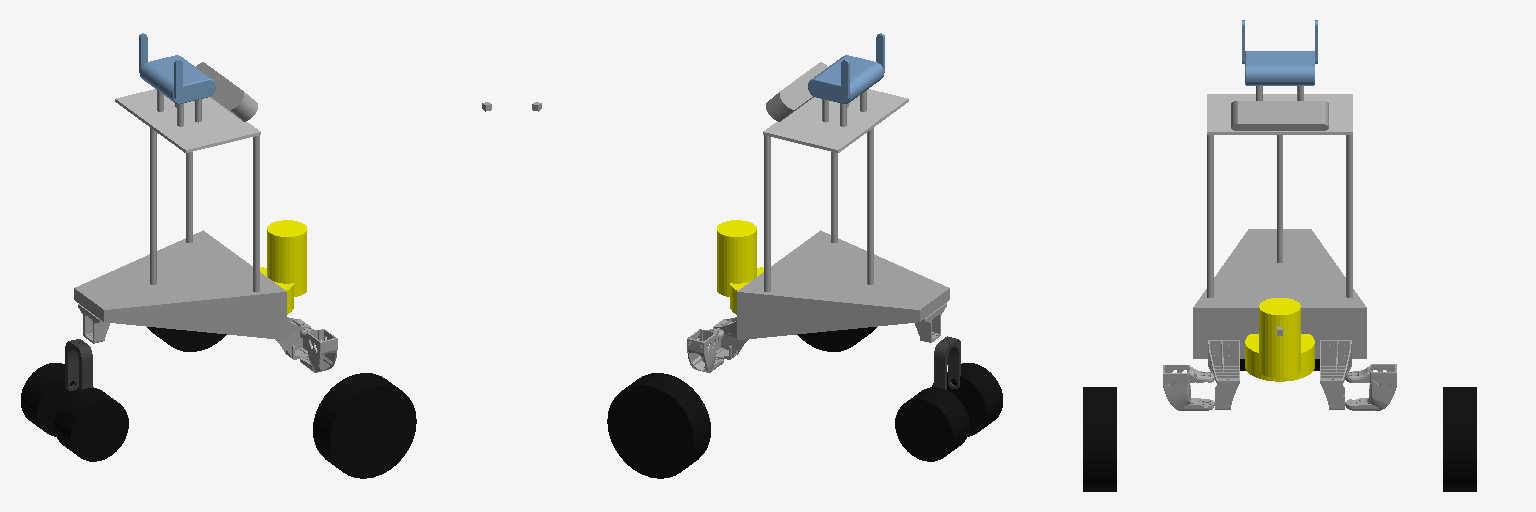
robot.urdf — nano_atrv:
<?xml version="1.0"?>
<robot name="nano_atrv">

    <link name="base_link">
        <visual>
            <origin xyz="-0.15 0 0" rpy="0 0 -1.5708" />
            <geometry>
                <mesh filename="package://nano_atrv_description/meshes/vehicle/mainbody.stl" scale="0.001 0.001 0.001"/>
            </geometry>
            <material name="silver">
                <color rgba="0.7 0.7 0.7 1.0"/>
            </material>
        </visual>

		<visual>
            <origin xyz="-0.045 0.65 -0.05" rpy="1.5708 0 1.5708" />
            <geometry>
                <mesh filename="package://nano_atrv_description/meshes/vehicle/servomount_rear.stl" scale="0.001 0.001 0.001"/>
            </geometry>
            <material name="red">
                <color rgba="0.7 0.7 0.7 1.0"/>
            </material>
        </visual>

		<visual>
            <origin xyz="0.945 0.17 -0.145" rpy="-1.5708 0 0" />
            <geometry>
                <mesh filename="package://nano_atrv_description/meshes/vehicle/servomount_front_l.stl" scale="0.001 0.001 0.001"/>
            </geometry>
            <material name="red">
                <color rgba="0.7 0.7 0.7 1.0"/>
            </material>
        </visual>

		<visual>
            <origin xyz="0.945 -0.17 -0.145" rpy="1.5708 0 0" />
            <geometry>
                <mesh filename="package://nano_atrv_description/meshes/vehicle/servomount_front_r.stl" scale="0.001 0.001 0.001"/>
            </geometry>
            <material name="red">
                <color rgba="0.7 0.7 0.7 1.0"/>
            </material>
        </visual>


        
        <!-- RODS -->
        <visual>
            <origin xyz="-0.04 0 0.21" rpy="0 0 0" />
            <geometry>
                <cylinder radius="0.005" length="0.26" />
            </geometry>
            <material name="silver">
                <color rgba="0.7 0.7 0.7 1.0"/>
            </material>
        </visual>
        <visual>
            <origin xyz="0.08 0.1 0.21" rpy="0 0 0" />
            <geometry>
                <cylinder radius="0.005" length="0.26" />
            </geometry>
            <material name="silver">
                <color rgba="0.7 0.7 0.7 1.0"/>
            </material>
        </visual>

        <visual>
            <origin xyz="0.08 -0.1 0.21" rpy="0 0 0" />
            <geometry>
                <cylinder radius="0.005" length="0.26" />
            </geometry>
            <material name="silver">
                <color rgba="0.7 0.7 0.7 1.0"/>
            </material>
        </visual>

        <!-- Motorji front right -->
        <visual>
            <origin xyz="0.164 0.1 -0.03" rpy="0 0 1.5708" />
            <geometry>
                <mesh filename="package://nano_atrv_description/meshes/SO101_arm/sts3215_03a_v1.stl" />
            </geometry>
            <material name="black">
                <color rgba="0.1 0.1 0.1 1.0"/>
            </material>
        </visual>

        <visual>
            <origin xyz="0.164 -0.1 -0.03" rpy="0 0 -1.5708" />
            <geometry>
                <mesh filename="package://nano_atrv_description/meshes/SO101_arm/sts3215_03a_v1.stl" />
            </geometry>
            <material name="black">
                <color rgba="0.1 0.1 0.1 1.0"/>
            </material>
        </visual>

        <!-- Motor back -->
        <visual>
            <origin xyz="-0.16 -0.003 0.035" rpy="0 0 3.14159265" />
            <geometry>
                <mesh filename="package://nano_atrv_description/meshes/SO101_arm/sts3215_03a_v1.stl" />
            </geometry>
            <material name="black">
                <color rgba="0.1 0.1 0.1 1.0"/>
            </material>
        </visual>

        <visual>
            <origin xyz="0.02 0 0.34" rpy="0 0 0" />
            <geometry>
            <box size="0.13 0.21 0.005" />
            </geometry>
            <material name="light_gray">
            <color rgba="0.8 0.8 0.8 1.0" />
            </material>
        </visual>

        <!-- Router -->
        <visual>
            <origin xyz="-0.01 0.03 0.37" rpy="0 0 0" />
            <geometry>
                <cylinder radius="0.005" length="0.05" />
            </geometry>
            <material name="silver">
                <color rgba="0.7 0.7 0.7 1.0"/>
            </material>
        </visual>

        <visual>
            <origin xyz="-0.01 -0.03 0.37" rpy="0 0 0" />
            <geometry>
                <cylinder radius="0.005" length="0.05" />
            </geometry>
            <material name="silver">
                <color rgba="0.7 0.7 0.7 1.0"/>
            </material>
        </visual>

        <visual>
            <origin xyz="0.02 0.03 0.37" rpy="0 0 0" />
            <geometry>
                <cylinder radius="0.005" length="0.05" />
            </geometry>
            <material name="silver">
                <color rgba="0.7 0.7 0.7 1.0"/>
            </material>
        </visual>

        <visual>
            <origin xyz="0.02 -0.03 0.37" rpy="0 0 0" />
            <geometry>
                <cylinder radius="0.005" length="0.05" />
            </geometry>
            <material name="silver">
                <color rgba="0.7 0.7 0.7 1.0"/>
            </material>
        </visual>


        <visual>
            <origin xyz="0.04 -0.05 0.39" rpy="0 0 1.5708" />
            <geometry>
                <mesh filename="package://nano_atrv_description/meshes/vehicle/router.stl" scale="0.001 0.001 0.001" />
            </geometry>
            <material name="lightblue">
                <color rgba="0.5 0.65 0.8 1.0"/>
            </material>
        </visual>
    </link>

    <link name="base_link_arm"/>
    <link name="base_footprint"/>
    <link name="laser"/>
    <link name="camera_link">
        <visual>
            <origin xyz="-0.075 -0.11 0.04" rpy="1.5708 0 1.5708" />
            <geometry>
                <mesh filename="package://nano_atrv_description/meshes/vehicle/camera.stl" scale="0.001 0.001 0.001" />
            </geometry>
            <material name="red"/>
        </visual>
    </link>

    <link name="left_wheel">
        <visual>
            <origin xyz="0 0 0" rpy="0 1.5708 0" />
            <geometry>
                <cylinder radius="0.075" length="0.05" />
            </geometry>
            <material name="black">
                <color rgba="0.1 0.1 0.1 1.0"/>
            </material>
        </visual>
    </link>

    <link name="right_wheel">
        <visual>
            <origin xyz="0 0 0" rpy="0 1.5708 0" />
            <geometry>
                <cylinder radius="0.075" length="0.05" />
            </geometry>
            <material name="black">
                <color rgba="0.1 0.1 0.1 1.0"/>
            </material>
        </visual>
    </link>

    <link name="rear_wheel">
        <visual>
            <origin xyz="-0.05 0 0" rpy="0 1.5708 0" />
            <geometry>
                <cylinder radius="0.05" length="0.05" />
            </geometry>
            <material name="black">
                <color rgba="0.1 0.1 0.1 1.0"/>
            </material>
        </visual>

        <visual>
            <origin xyz="0.05 0 0.0" rpy="0 1.5708 0" />
            <geometry>
                <cylinder radius="0.05" length="0.05" />
            </geometry>
            <material name="black">
                <color rgba="0.1 0.1 0.1 1.0"/>
            </material>
        </visual>
    </link>

    <link name="right_wheel_link"/>
    <link name="left_wheel_link"/>
    
    <link name="rear_wheel_link">
        <visual>
            <origin xyz="0.0 0.2 0.78" rpy="0 -1.5708 0" />
            <geometry>
                <mesh filename="package://nano_atrv_description/meshes/vehicle/wheel_rear_yoke.stl" scale="0.001 0.001 0.001"/>
            </geometry>
            <material name="dark_grey">
                <color rgba="0.3 0.3 0.3 1.0"/>
            </material>
        </visual>
    </link>

    <link name="left_steer_link"/>
    <link name="right_steer_link"/>
    <link name="rear_steer_link"/>

    <link name="arm_base_link">
        <gazebo>
            <material>Gazebo/Grey</material>
        </gazebo>
    </link>

    <material name="brightyellow">
        <color rgba="1.0 0.992 0.004 1.0" />
    </material>
    <material name="red">
        <color rgba="1.0 0.0 0.0 1"/>
    </material>

    <link name="arm_Base">
        <inertial>
            <origin xyz="-2.45960666746703E-07 0.0311418169687909 0.0175746661003382" rpy="0 0 0" />
            <mass value="0.193184127927598" />
            <inertia ixx="0.000137" ixy="0.0" ixz="0.0" iyy="0.000169" iyz="0.0" izz="0.000145" />
        </inertial>
        <visual>
            <origin xyz="0 0 0.02" rpy="0 0 0" />
            <geometry>
                <cylinder radius="0.05" length="0.04" />
            </geometry>
            <material name="brightyellow"/>
        </visual>
        <collision>
            <origin xyz="0 0 0.02" rpy="0 0 0" />
            <geometry>
                <cylinder radius="0.05" length="0.04" />
            </geometry>
        </collision>
    </link>

    <link name="arm_Shoulder_Rotation_Pitch">
        <inertial>
            <origin xyz="-9.07886224712597E-05 0.0590971820568318 0.031089016892169" rpy="0 0 0" />
            <mass value="0.119226314127197" />
            <inertia ixx="5.9E-05" ixy="0.0" ixz="0.0" iyy="3.2E-05" iyz="0.0" izz="5.8E-05" />
        </inertial>
        <visual>
            <origin xyz="0 0.05 0" rpy="1.5708 0 0" />
            <geometry>
                <cylinder radius="0.03" length="0.1" />
            </geometry>
            <material name="brightyellow"/>
        </visual>
        <collision>
            <origin xyz="0 0.05 0" rpy="1.5708 0 0" />
            <geometry>
                <cylinder radius="0.03" length="0.1" />
            </geometry>
        </collision>
    </link>

    <link name="arm_Upper_Arm">
        <inertial>
            <origin xyz="-1.7205170190925E-05 0.0701802156327694 0.00310545118155671" rpy="0 0 0" />
            <mass value="0.162409284599177" />
            <inertia ixx="0.000167" ixy="0.0" ixz="0.0" iyy="7.0E-05" iyz="0.0" izz="0.000213" />
        </inertial>
        <visual>
            <origin xyz="0 0.069 -0.013" rpy="1.5708 0 -1.5708" />
            <geometry>
                <mesh filename="package://nano_atrv_description/meshes/SO101_arm/upper_arm_so101_v1.stl" />
            </geometry>
            <material name="brightyellow"/>
        </visual>
        <visual>
        <origin xyz="0 0.115 0.015" rpy="0 -1.5708 0" />
            <geometry>
                <mesh filename="package://nano_atrv_description/meshes/SO101_arm/sts3215_03a_v1.stl" />
            </geometry>
            <material name="black">
                <color rgba="0.1 0.1 0.1 1.0"/>
            </material>
        </visual>
        <collision>
            <origin xyz="0 0.05 0" rpy="1.5708 0 0" />
            <geometry>
                <cylinder radius="0.025" length="0.11" />
            </geometry>
        </collision>
    </link>

    <link name="arm_Lower_Arm">
        <inertial>
            <origin xyz="-0.00339603710186651 0.00137796353960074 0.0768006751156044" rpy="0 0 0" />
            <mass value="0.147967774582291" />
            <inertia ixx="0.000105" ixy="0.0" ixz="0.0" iyy="0.000138" iyz="0.0" izz="5.0E-05" />
        </inertial>
        <visual>
            <origin xyz="0 0.034 0.065" rpy="0 1.5708 0" />
            <geometry>
                <mesh filename="package://nano_atrv_description/meshes/SO101_arm/under_arm_so101_v1.stl" />
            </geometry>
            <material name="brightyellow"/>
        </visual>
        <visual>
            <origin xyz="0 0 0.12" rpy="0 -1.5708 0" />
            <geometry>
                <mesh filename="package://nano_atrv_description/meshes/SO101_arm/sts3215_03a_v1.stl" />
            </geometry>
            <material name="black">
                <color rgba="0.1 0.1 0.1 1.0"/>
            </material>
        </visual>
        <collision>
            <origin xyz="0 0 0.06" rpy="0 0 0" />
            <geometry>
                <cylinder radius="0.02" length="0.13" />
            </geometry>
        </collision>
    </link>

    <link name="arm_Wrist_Pitch_Roll">
        <inertial>
            <origin xyz="-0.00852653127372418 -0.0352278997897927 -2.34622481569413E-05" rpy="0 0 0" />
            <mass value="0.066132067097723" />
            <inertia ixx="1.9E-05" ixy="0.0" ixz="0.0" iyy="2.3E-05" iyz="0.0" izz="3.4E-05" />
        </inertial>
        <visual>
            <origin xyz="0 -0.025 0" rpy="1.5708 0 3.14159265359" />
            <geometry>
                <mesh filename="package://nano_atrv_description/meshes/SO101_arm/wrist_roll_pitch_so101_v2.stl" />
            </geometry>
            <material name="brightyellow"/>
        </visual>
        <visual>
            <origin xyz="-0.015 -0.04 0" rpy="-1.5708 0 0" />
            <geometry>
                <mesh filename="package://nano_atrv_description/meshes/SO101_arm/sts3215_03a_v1.stl" />
            </geometry>
            <material name="black">
                <color rgba="0.1 0.1 0.1 1.0"/>
            </material>
        </visual>
        <collision>
            <origin xyz="0 -0.03 0" rpy="1.5708 0 0" />
            <geometry>
                <cylinder radius="0.02" length="0.06" />
            </geometry>
        </collision>
    </link>

    <link name="arm_Fixed_Gripper">
        <inertial>
            <origin xyz="0.00552376906426563 -0.0280167153359021 0.000483582592841092" rpy="0 0 0" />
            <mass value="0.0929859131176897" />
            <inertia ixx="4.3E-05" ixy="0.0" ixz="0.0" iyy="3.0E-05" iyz="0.0" izz="5.0E-05" />
        </inertial>
        <visual>
            <origin xyz="0 0 0" rpy="-1.5708 0 3.14159265359" />
            <geometry>
                <mesh filename="package://nano_atrv_description/meshes/SO101_arm/wrist_roll_follower_so101_v1.stl" />
            </geometry>
            <material name="brightyellow"/>
        </visual>
        <visual>
        <origin xyz="-0.01 -0.025 0" rpy="0 3.141592 0" />
            <geometry>
                <mesh filename="package://nano_atrv_description/meshes/SO101_arm/sts3215_03a_v1.stl" />
            </geometry>
            <material name="black">
                <color rgba="0.1 0.1 0.1 1.0"/>
            </material>
        </visual>
        <collision>
            <origin xyz="0 0 0" rpy="-1.5708 0 3.14159265359" />
            <geometry>
                <mesh filename="package://nano_atrv_description/meshes/SO101_arm/wrist_roll_follower_so101_v1.stl" />
            </geometry>
        </collision>
    </link>

    <link name="arm_Moving_Jaw">
        <inertial>
            <origin xyz="-0.00161744605468241 -0.0303472584046471 0.000449645961853651" rpy="0 0 0" />
            <mass value="0.0202443794940372" />
            <inertia ixx="1.1E-05" ixy="0.0" ixz="0.0" iyy="3.0E-06" iyz="0.0" izz="8.9E-06" />
        </inertial>
        <visual>
            <origin xyz="0 0 0" rpy="0 0 0" />
            <geometry>
                <mesh filename="package://nano_atrv_description/meshes/SO101_arm/moving_jaw_so101_v1.stl" />
            </geometry>
            <material name="red"/>
        </visual>
        <collision>
            <origin xyz="0 0 0" rpy="0 0 0" />
            <geometry>
                <mesh filename="package://nano_atrv_description/meshes/SO101_arm/moving_jaw_so101_v1.stl" />
            </geometry>
        </collision>
    </link>

    <link name="arm_End_Effector">
        <visual>
            <origin xyz="0 0 0" rpy="0 0 0"/>
            <geometry>
                <box size="0.01 0.01 0.01" />
            </geometry>
            <material name="red"/>
        </visual>
    </link>

    <joint name="base_footprint_to_base_link" type="fixed">
        <parent link="base_footprint"/>
        <child link="base_link"/>
        <origin xyz="0 0 0.18" rpy="0 0 0"/>
    </joint>

    <joint name="base_link_to_laser" type="fixed">
        <parent link="base_link"/>
        <child link="laser"/>
        <origin xyz="0 0 0.23" rpy="0 3.1415 0"/>
    </joint>

    <joint name="base_link_to_camera_link" type="fixed">
        <parent link="base_link"/>
        <child link="camera_link"/>
        <origin xyz="0.08 0.05 0.285" rpy="0 0.8029 0"/>
    </joint>

    <joint name="base_link_to_arm" type="fixed">
        <parent link="base_link"/>
        <child link="base_link_arm"/>
        <origin xyz="0.145 0 0" rpy="0 0 1.5708"/>
    </joint>

    <joint name="base_link_arm_to_arm_base" type="fixed">
        <parent link="base_link_arm"/>
        <child link="arm_base_link"/>
        <origin xyz="0 0 0" rpy="0 0 0"/>
    </joint>

    <joint name="base_link_to_left_steer" type="fixed">
        <parent link="base_link"/>
        <child link="left_steer_link"/>
        <origin xyz="0.175 0.1775 -0.1" rpy="0 0 0"/>
    </joint>

    <joint name="base_link_to_right_steer" type="fixed">
        <parent link="base_link"/>
        <child link="right_steer_link"/>
        <origin xyz="0.175 -0.1775 -0.1" rpy="0 0 0"/>
    </joint>

    <joint name="base_link_to_rear_steer" type="fixed">
        <parent link="base_link"/>
        <child link="rear_steer_link"/>
        <origin xyz="-0.175 0 -0.1" rpy="0 0 0"/>
    </joint>

    <joint name="left_steer_joint" type="revolute">
        <parent link="left_steer_link"/>
        <child link="left_wheel_link"/>
        <origin xyz="0 0 0" rpy="0 0 0"/>
        <axis xyz="0 0 1"/>
        <limit lower="-1.57" upper="1.57" effort="10" velocity="2"/>
    </joint>

    <joint name="right_steer_joint" type="revolute">
        <parent link="right_steer_link"/>
        <child link="right_wheel_link"/>
        <origin xyz="0 0 0" rpy="0 0 0"/>
        <axis xyz="0 0 1"/>
        <limit lower="-1.57" upper="1.57" effort="10" velocity="2"/>
    </joint>

    <joint name="rear_steer_joint" type="revolute">
        <parent link="rear_steer_link"/>
        <child link="rear_wheel_link"/>
        <origin xyz="0 0 0" rpy="0 0 0"/>
        <axis xyz="0 0 1"/>
        <limit lower="-3.1415" upper="3.1415" effort="10" velocity="2"/>
    </joint>

    <link name="left_wheel_block">
        <visual>
            <origin xyz="-0.39 -0.06 -0.025" rpy="0 3.14159265359 0" />
            <geometry>
                <mesh filename="package://nano_atrv_description/meshes/vehicle/wheel_front_mount.stl" scale="0.001 0.001 0.001"/>
            </geometry>
            <material name="red">
                <color rgba="0.7 0.7 0.7 1.0"/>
            </material>
        </visual>
        
        <visual>
            <origin xyz="-0.01 -0.085 0.085" rpy="1.5708 1.5708 0" />
            <geometry>
                <mesh filename="package://nano_atrv_description/meshes/SO101_arm/sts3215_03a_v1.stl" />
            </geometry>
            <material name="black">
                <color rgba="0.1 0.1 0.1 1.0"/>
            </material>
        </visual>
    </link>
    <joint name="left_wheel_link_to_block" type="fixed">
        <parent link="left_wheel_link"/>
        <child link="left_wheel_block"/>
        <origin xyz="0 0.055 0" rpy="0 0 0"/>
    </joint>

    <link name="right_wheel_block">
        <visual>
            <origin xyz="0.37 0.06 -0.025" rpy="0 3.14159265359 3.14159265359" />
            <geometry>
                <mesh filename="package://nano_atrv_description/meshes/vehicle/wheel_front_mount.stl" scale="0.001 0.001 0.001"/>
            </geometry>
            <material name="red">
                <color rgba="0.7 0.7 0.7 1.0"/>
            </material>
        </visual>

        <visual>
            <origin xyz="-0.01 0.085 0.085" rpy="1.5708 1.5708 0" />
            <geometry>
                <mesh filename="package://nano_atrv_description/meshes/SO101_arm/sts3215_03a_v1.stl" />
            </geometry>
            <material name="black">
                <color rgba="0.1 0.1 0.1 1.0"/>
            </material>
        </visual>
    </link>

    <joint name="right_wheel_link_to_block" type="fixed">
        <parent link="right_wheel_link"/>
        <child link="right_wheel_block"/>
        <origin xyz="0 -0.055 0" rpy="0 0 0"/>
    </joint>

    <joint name="left_wheel_joint" type="continuous">
        <parent link="left_wheel_link"/>
        <child link="left_wheel"/>
        <origin xyz="0 0.08 0" rpy="0 0 1.5708"/>
        <axis xyz="-1 0 0"/>
    </joint>

    <joint name="right_wheel_joint" type="continuous">
        <parent link="right_wheel_link"/>
        <child link="right_wheel"/>
        <origin xyz="0 -0.08 0" rpy="0 0 -1.5708"/>
        <axis xyz="1 0 0"/>
    </joint>

    <joint name="rear_wheel_joint" type="continuous">
        <parent link="rear_wheel_link"/>
        <child link="rear_wheel"/>
        <origin xyz="0 0 0" rpy="0 0 1.5708"/>
        <axis xyz="-1 0 0"/>
    </joint>

    <joint name="arm_base_link_joint" type="fixed">
        <parent link="arm_base_link"/>
        <child link="arm_Base"/>
        <origin xyz="0 0 0" rpy="0 0 0"/>
    </joint>

    <joint name="arm_Shoulder_Rotation" type="revolute">
        <origin xyz="0 -0.0452 0.0165" rpy="1.5708 0 0" />
        <parent link="arm_Base" />
        <child link="arm_Shoulder_Rotation_Pitch" />
        <axis xyz="0 -1 0" />
        <limit effort="1000" lower="-1.96" upper="1.96" velocity="5.0"/>
        <dynamics damping="0.1"/>
    </joint>

    <joint name="arm_Shoulder_Pitch" type="revolute">
        <origin xyz="0 0.1025 0.0306" rpy="0 0 0" />
        <parent link="arm_Shoulder_Rotation_Pitch" />
        <child link="arm_Upper_Arm" />
        <axis xyz="1 0 0" />
        <limit effort="1000" lower="-1.745" upper="1.745" velocity="5.0"/>
        <dynamics damping="0.1"/>
    </joint>

    <joint name="arm_Elbow" type="revolute">
        <origin xyz="0 0.11257 0.028" rpy="0 0 0" />
        <parent link="arm_Upper_Arm" />
        <child link="arm_Lower_Arm" />
        <axis xyz="1 0 0" />
        <limit effort="1000" lower="-1.5" upper="1.5" velocity="5.0"/>
        <dynamics damping="0.1"/>
    </joint>

    <joint name="arm_Wrist_Pitch" type="revolute">
        <origin xyz="0 0.0052 0.1349" rpy="-1.57079 0 0" />
        <parent link="arm_Lower_Arm" />
        <child link="arm_Wrist_Pitch_Roll" />
        <axis xyz="1 0 0" />
        <limit effort="1000" lower="-1.658" upper="1.658" velocity="5.0"/>
        <dynamics damping="0.1"/>
    </joint>

    <joint name="arm_Wrist_Roll" type="revolute">
        <origin xyz="0 -0.0601 0" rpy="0 1.57079 0" />
        <parent link="arm_Wrist_Pitch_Roll" />
        <child link="arm_Fixed_Gripper" />
        <axis xyz="0 1 0" />
        <limit effort="1000" lower="-2.75" upper="2.75" velocity="5.0"/>
        <dynamics damping="0.1"/>
    </joint>

    <joint name="arm_Gripper" type="revolute">
        <origin xyz="-0.0202 -0.0244 0" rpy="3.1416 0 3.1416" />
        <parent link="arm_Fixed_Gripper" />
        <child link="arm_Moving_Jaw" />
        <axis xyz="0 0 1" />
        <limit effort="1000" lower="-0.1792" upper="1.5708" velocity="5.0"/>
        <dynamics damping="0.1"/>
    </joint>

    <joint name="arm_End_Effector_Joint" type="fixed">
        <parent link="arm_Fixed_Gripper"/>
        <child link="arm_End_Effector"/>
        <origin xyz="0.0 -0.09 0.0" rpy="0 0 0"/>
    </joint>

</robot>

--- Render facts (derived) ---
The picture shows the robot from 3 angles, left to right: view 1: azimuth 30°, elevation 25°; view 2: azimuth 150°, elevation 25°; view 3: azimuth 270°, elevation 25°; orthographic projection.
Model nano_atrv with 25 links and 24 joints (9 revolute, 3 continuous, 12 fixed), rooted at base_footprint, posed all joints at 0.
Links seen in each view (by area): view 1: base_link, right_wheel, rear_wheel, arm_Shoulder_Rotation_Pitch, camera_link, rear_wheel_link, right_wheel_block, left_wheel; view 2: base_link, left_wheel, rear_wheel, arm_Shoulder_Rotation_Pitch, camera_link, left_wheel_block, rear_wheel_link, right_wheel; view 3: base_link, left_wheel, right_wheel, arm_Shoulder_Rotation_Pitch, camera_link, left_wheel_block, right_wheel_block, arm_Base.
Link boxes in pixels (left/top/right/bottom): base_link: left=74, top=33, right=311, bottom=359; right_wheel: left=313, top=373, right=416, bottom=478; rear_wheel: left=21, top=363, right=128, bottom=461; arm_Shoulder_Rotation_Pitch: left=267, top=220, right=306, bottom=296; camera_link: left=196, top=62, right=257, bottom=121; rear_wheel_link: left=65, top=339, right=92, bottom=390; right_wheel_block: left=300, top=328, right=337, bottom=372; left_wheel: left=147, top=327, right=226, bottom=351; base_link: left=712, top=33, right=949, bottom=359; left_wheel: left=607, top=373, right=710, bottom=478; rear_wheel: left=895, top=363, right=1002, bottom=461; arm_Shoulder_Rotation_Pitch: left=717, top=220, right=756, bottom=296; camera_link: left=766, top=62, right=827, bottom=121; left_wheel_block: left=687, top=328, right=723, bottom=372; rear_wheel_link: left=934, top=336, right=960, bottom=389; right_wheel: left=797, top=327, right=876, bottom=351; base_link: left=1193, top=20, right=1366, bottom=409; left_wheel: left=1443, top=387, right=1476, bottom=491; right_wheel: left=1083, top=387, right=1116, bottom=491; arm_Shoulder_Rotation_Pitch: left=1259, top=298, right=1300, bottom=378; camera_link: left=1231, top=101, right=1328, bottom=130; left_wheel_block: left=1345, top=364, right=1396, bottom=410; right_wheel_block: left=1163, top=365, right=1214, bottom=410; arm_Base: left=1245, top=334, right=1314, bottom=381.
Size in the robot's own frame: 0.7638 by 0.565 by 0.641 metres.
Meshes: 14 distinct files referenced, 9 mesh visuals loaded (8 binary STL); not drawn: 14 (reference not matched to a file when rendering).
